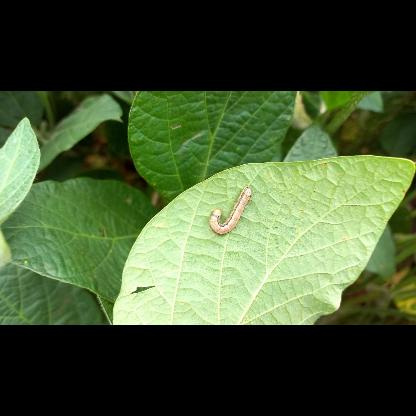agujero: (128, 280, 158, 298)
oruga: (209, 186, 252, 240)
